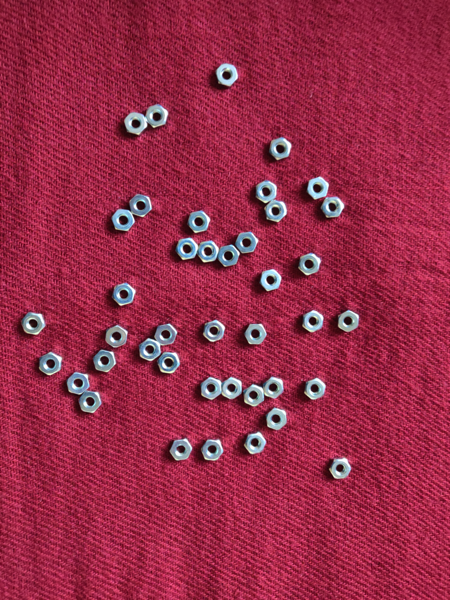nut: (214, 61, 240, 87), (111, 282, 137, 307), (38, 352, 64, 377), (145, 103, 169, 130), (20, 313, 47, 337), (123, 111, 148, 136), (263, 199, 288, 224), (195, 239, 220, 264), (110, 208, 136, 232), (269, 136, 293, 161), (306, 175, 330, 200), (186, 210, 211, 234), (129, 193, 153, 218), (202, 319, 227, 343), (137, 338, 162, 362), (92, 349, 117, 373), (321, 196, 345, 220), (298, 252, 322, 276), (174, 237, 198, 261), (66, 371, 90, 395), (255, 179, 278, 204), (234, 231, 259, 254), (258, 269, 283, 292), (218, 243, 241, 268), (244, 431, 267, 456), (244, 323, 268, 346), (154, 324, 178, 347), (158, 351, 181, 375), (200, 378, 224, 401), (244, 384, 267, 408), (169, 439, 193, 462), (304, 376, 327, 400), (104, 325, 129, 347), (78, 391, 103, 413), (337, 310, 360, 333), (221, 376, 244, 399), (266, 407, 289, 430), (202, 439, 225, 462), (302, 310, 326, 332), (329, 458, 352, 480), (263, 377, 285, 399)
